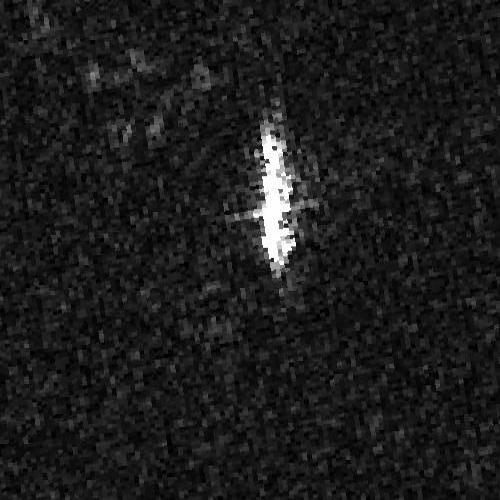ship: (259, 125, 297, 274)
